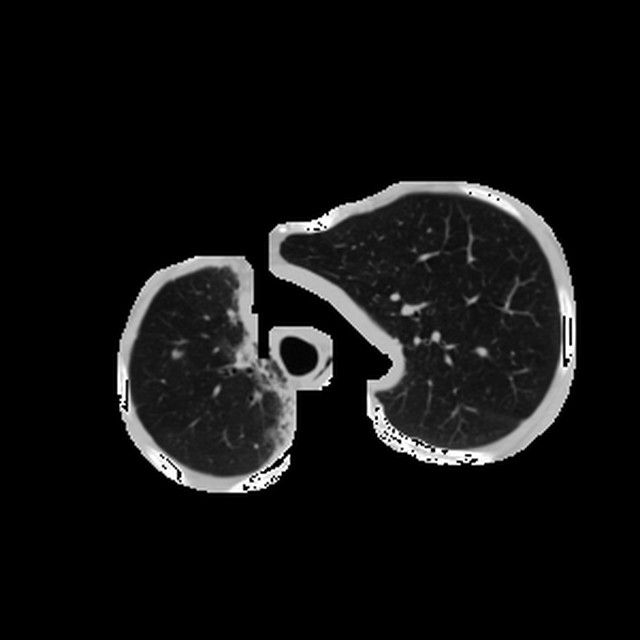PN: (169, 348, 181, 361)
